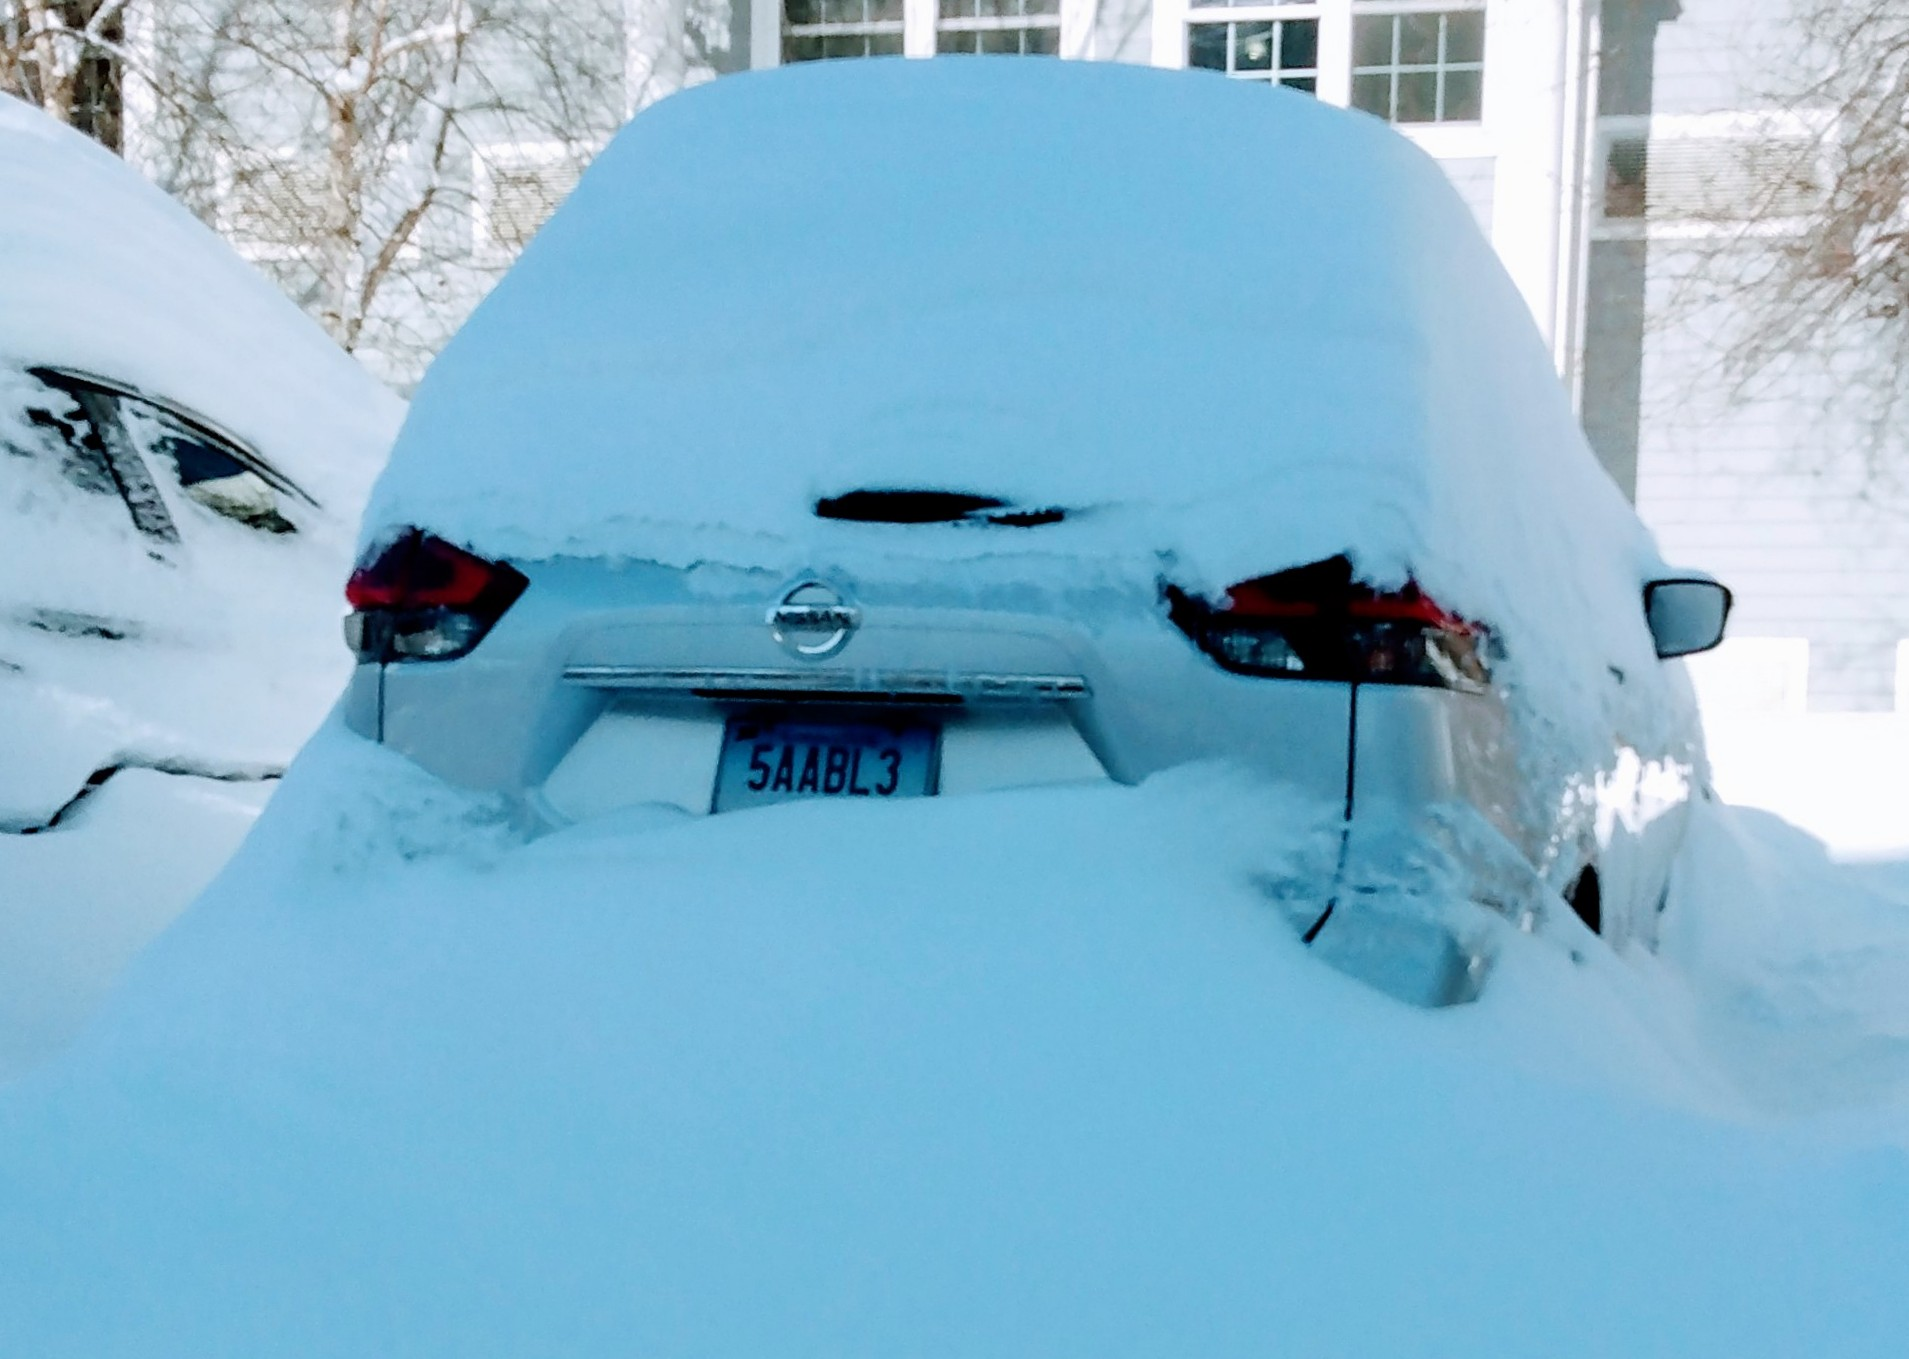license plate: (719, 713, 924, 815)
